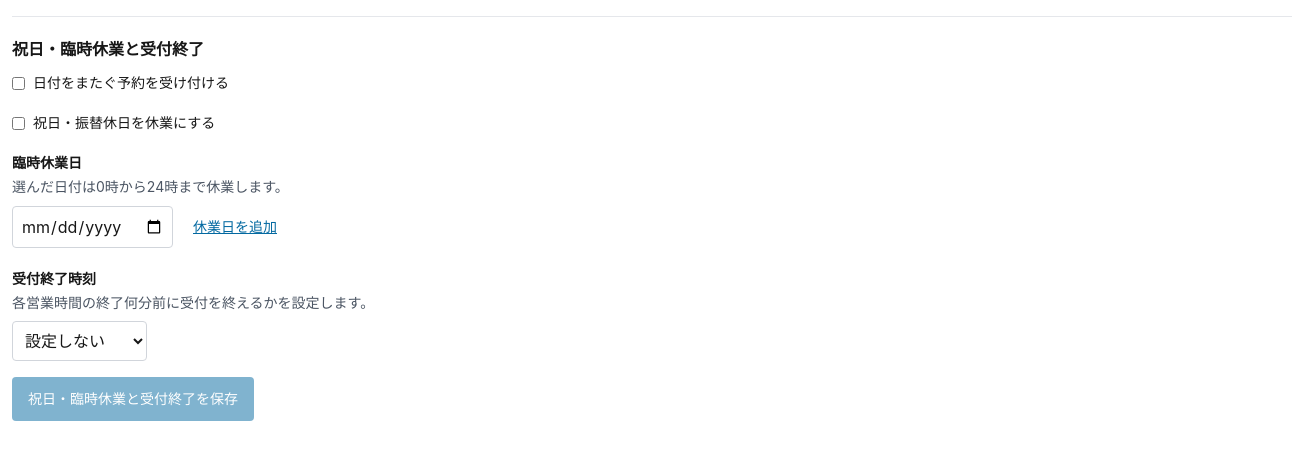
Test: a conflict preserves the unsaved input for review
Click the checkbox labelled "祝日・振替休日を休業にする".
click(18, 123)  # box [12,116,25,130]
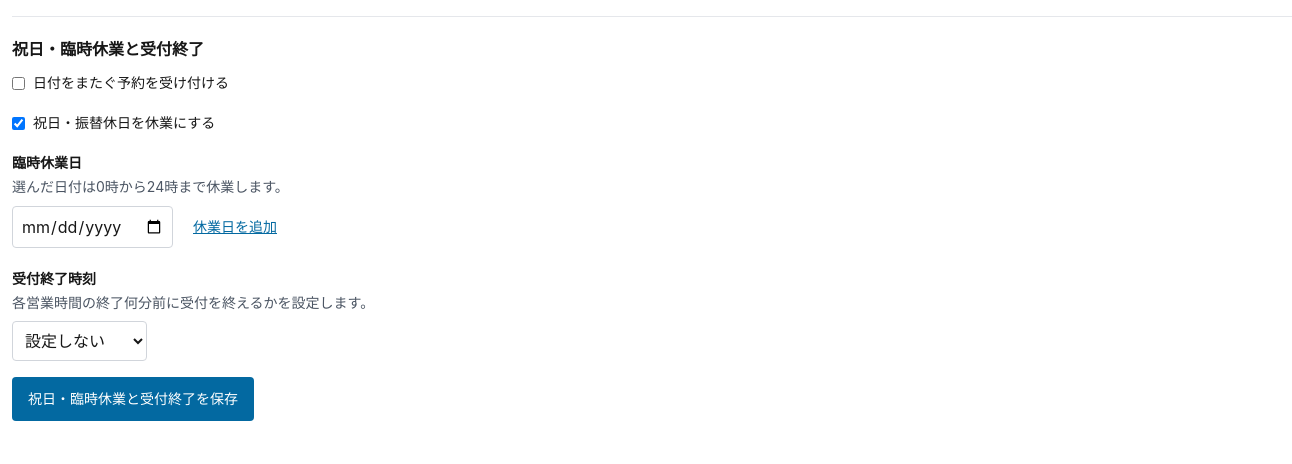
Click the button "祝日・臨時休業と受付終了を保存".
click(133, 399)  # box [12,377,254,421]
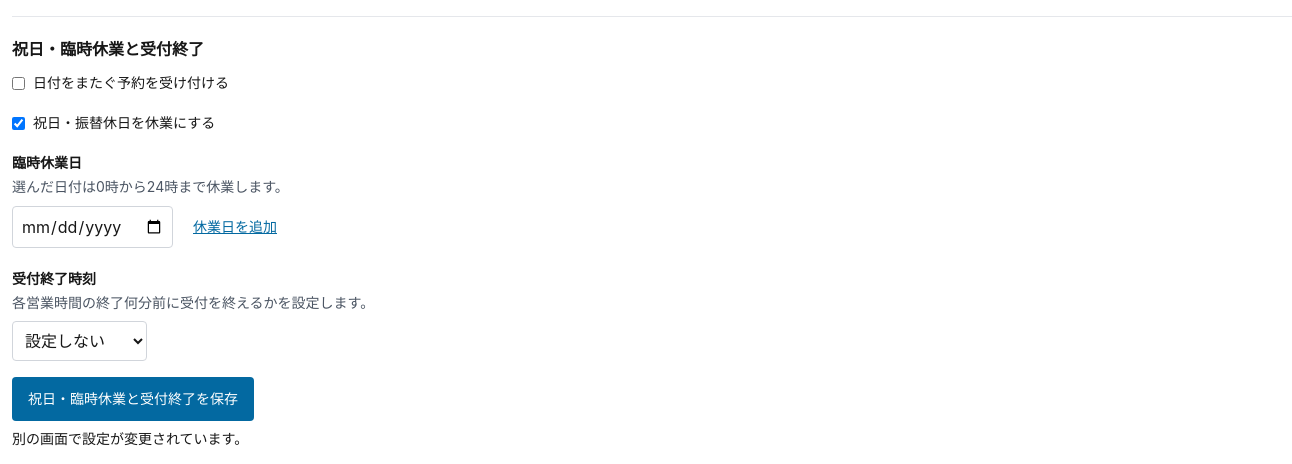
Result: the checkbox labelled "祝日・振替休日を休業にする" is checked at [12,116,25,130]
Result: the text "別の画面で設定が変更されています。" is shown at [12,430,248,447]
